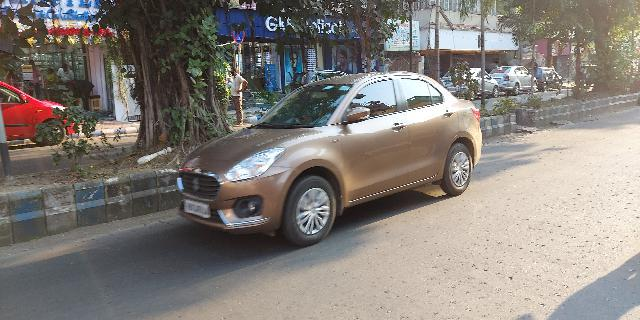Car: (172, 68, 483, 250)
